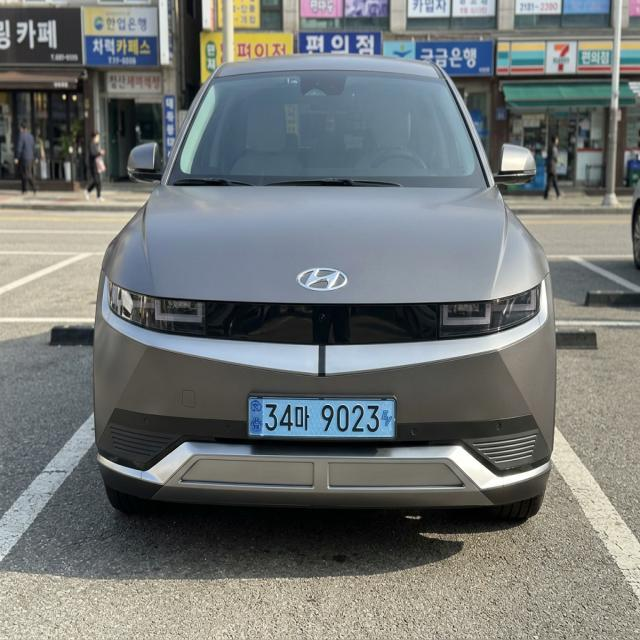car: (230, 377, 416, 469)
carev: (378, 395, 395, 449), (247, 394, 264, 444)
